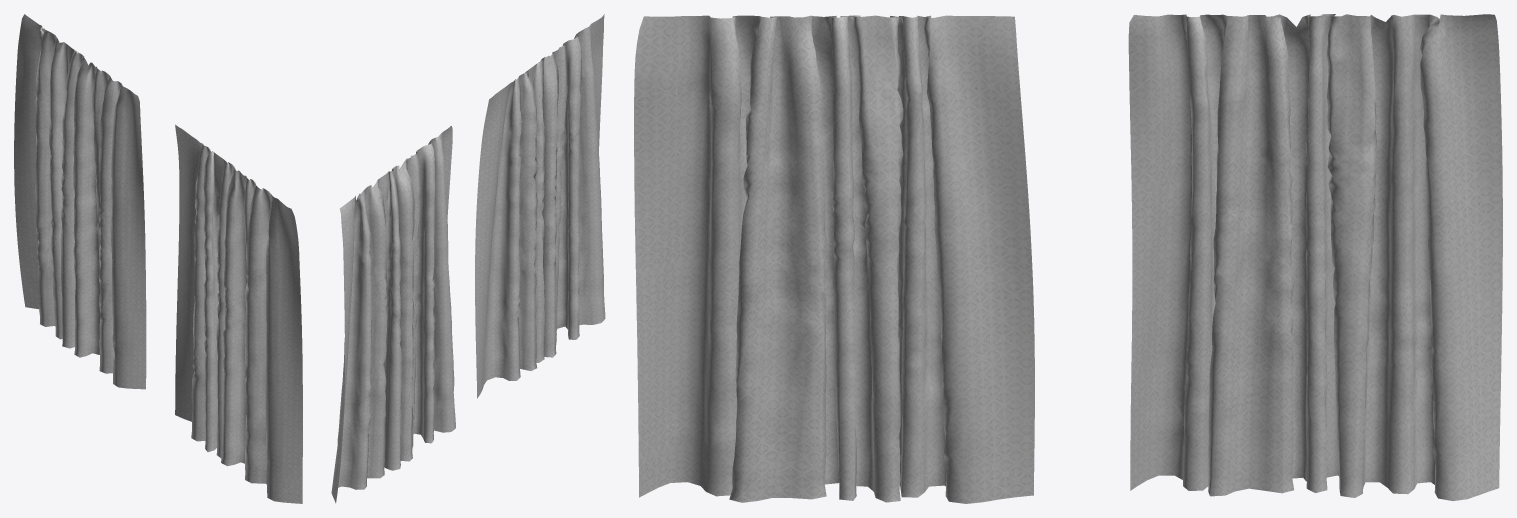
File: curtain.glb
3 views of the same model, side by side, from view 1: azimuth 30°, elevation 25°; view 2: azimuth 150°, elevation 25°; view 3: azimuth 270°, elevation 25° (orthographic). The views are drawn at different scales.
Parts seen in each view (by area): view 1: Tulle_LP_Tulle_0; view 2: Tulle_LP_Tulle_0; view 3: Tulle_LP_Tulle_0.
Boxes of the visible parts, x1,y1,x2,y2 form: Tulle_LP_Tulle_0: [14, 14, 302, 503]; Tulle_LP_Tulle_0: [331, 14, 605, 503]; Tulle_LP_Tulle_0: [634, 14, 1502, 503].
Size of the model in its own units: 0.3599 by 3.29 by 5.44.
Materials: 1 (1 with a texture image).
